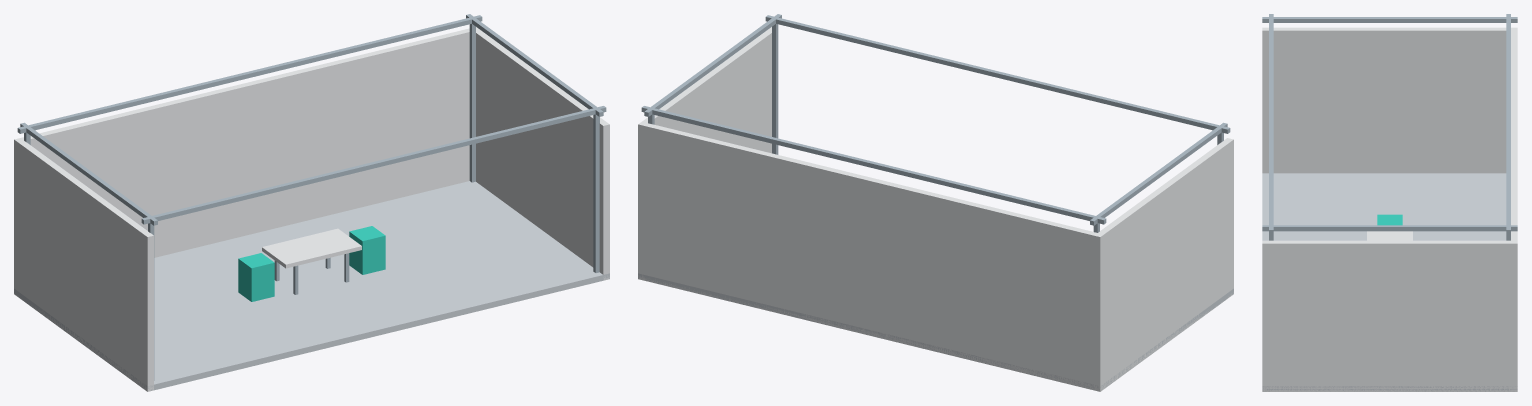
3 renders of one model, left to right at view 1: azimuth 30°, elevation 25°; view 2: azimuth 150°, elevation 25°; view 3: azimuth 270°, elevation 25°, orthographic. The views are drawn at different scales.
Parts seen in each view (by area): view 1: Exhibition Booth Concept; view 2: Exhibition Booth Concept; view 3: Exhibition Booth Concept.
Part boxes in pixels (x1,y1,x2,y2): Exhibition Booth Concept: (14, 14, 609, 391); Exhibition Booth Concept: (638, 14, 1233, 391); Exhibition Booth Concept: (1262, 14, 1517, 391).
Bounding box in the file's own units: 10 × 3.49 × 5.
